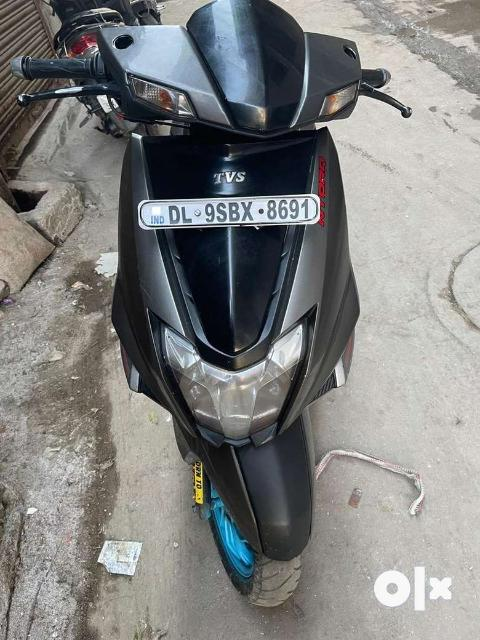Indian_Number_Plate: (142, 196, 319, 229)
